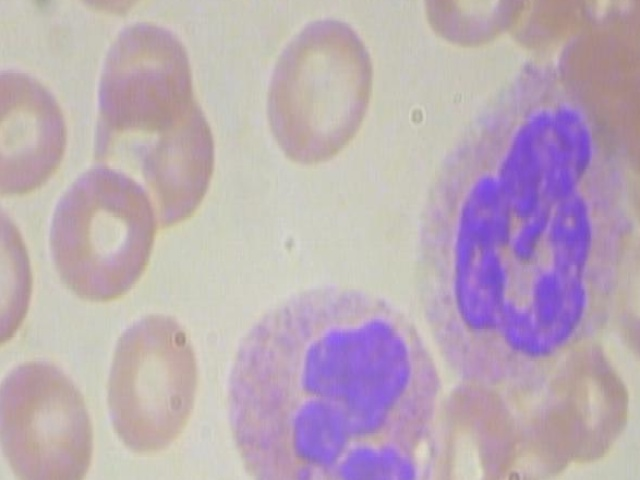RBC: (93, 294, 223, 462), (253, 10, 382, 178), (50, 161, 166, 300), (85, 1, 201, 140), (0, 344, 116, 480), (0, 55, 71, 197), (0, 193, 40, 363), (412, 0, 528, 54), (55, 0, 172, 17)
WBC: (407, 52, 640, 410), (203, 274, 443, 480)
